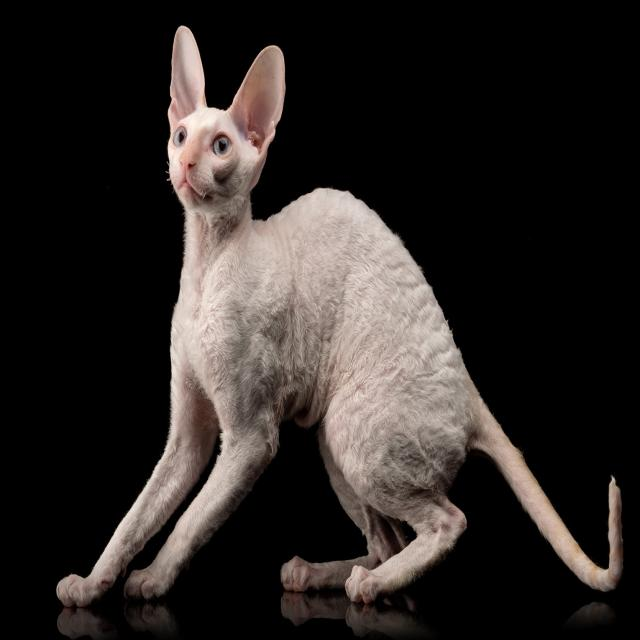Cornish Rex: (52, 22, 631, 613)
